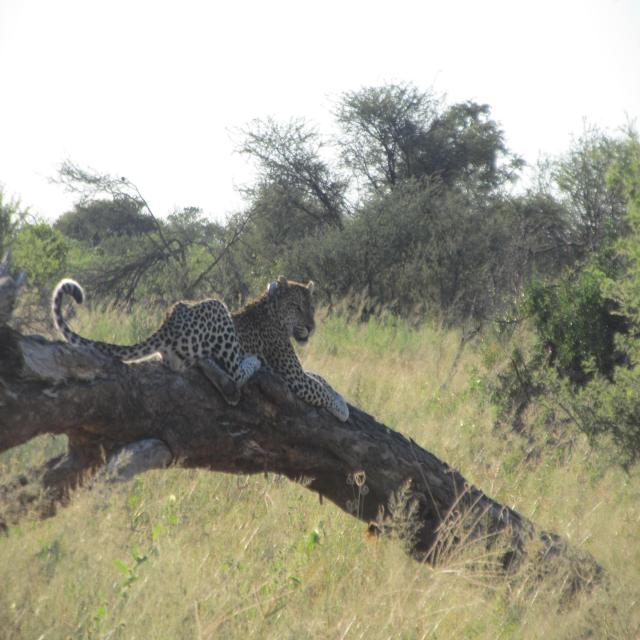Leopard: (39, 270, 344, 424)
